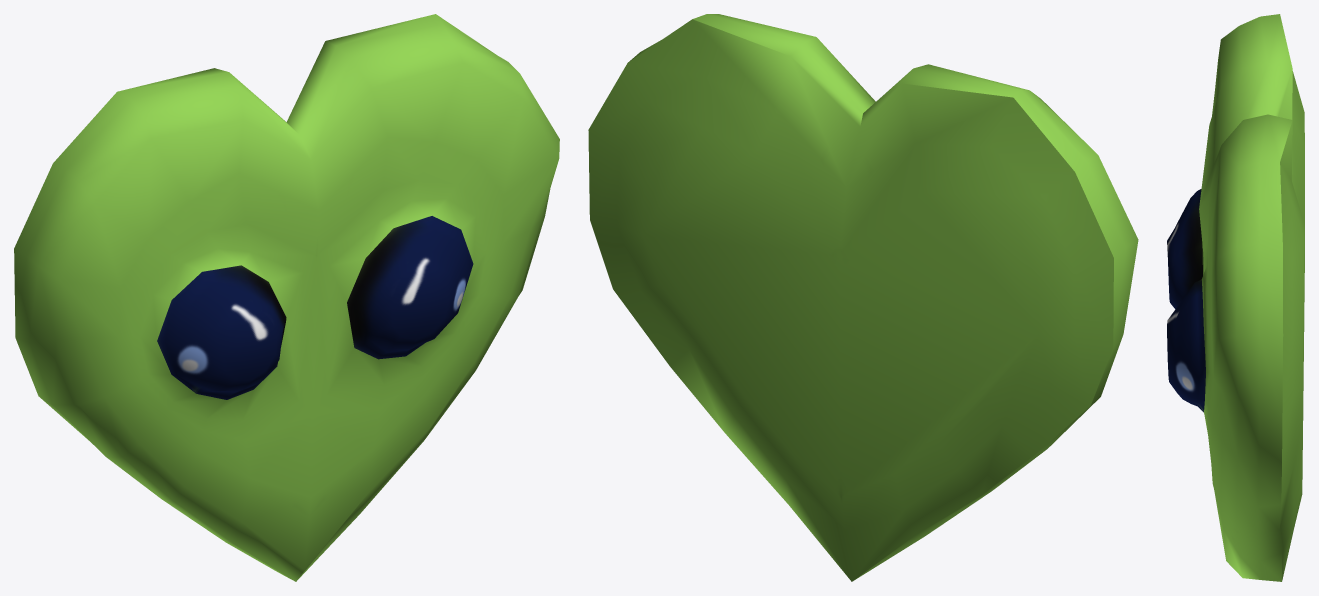
Rendered from corasao.fbx.
The picture shows the model from 3 angles, left to right: view 1: azimuth 30°, elevation 25°; view 2: azimuth 150°, elevation 25°; view 3: azimuth 270°, elevation 25°; orthographic projection. The views are drawn at different scales.
Visible parts, largest first — view 1: Corasao; view 2: Corasao; view 3: Corasao.
Part boxes in pixels (x1,y1,x2,y2): Corasao: (14,14,559,581); Corasao: (588,14,1138,581); Corasao: (1167,14,1304,581).
Bounding box in the file's own units: 203 × 193 × 48.86.
